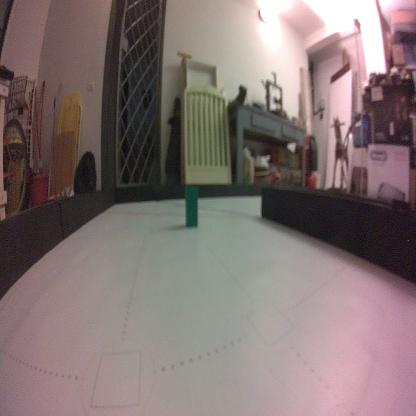green: (183, 186, 199, 228)
